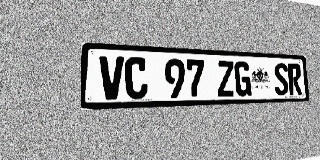7: (185, 59, 205, 98)
9: (165, 58, 186, 98)
C: (125, 57, 148, 99)
G: (234, 61, 251, 96)
R: (288, 63, 302, 95)
S: (274, 63, 289, 95)
V: (99, 56, 124, 100)
Z: (217, 60, 235, 97)
